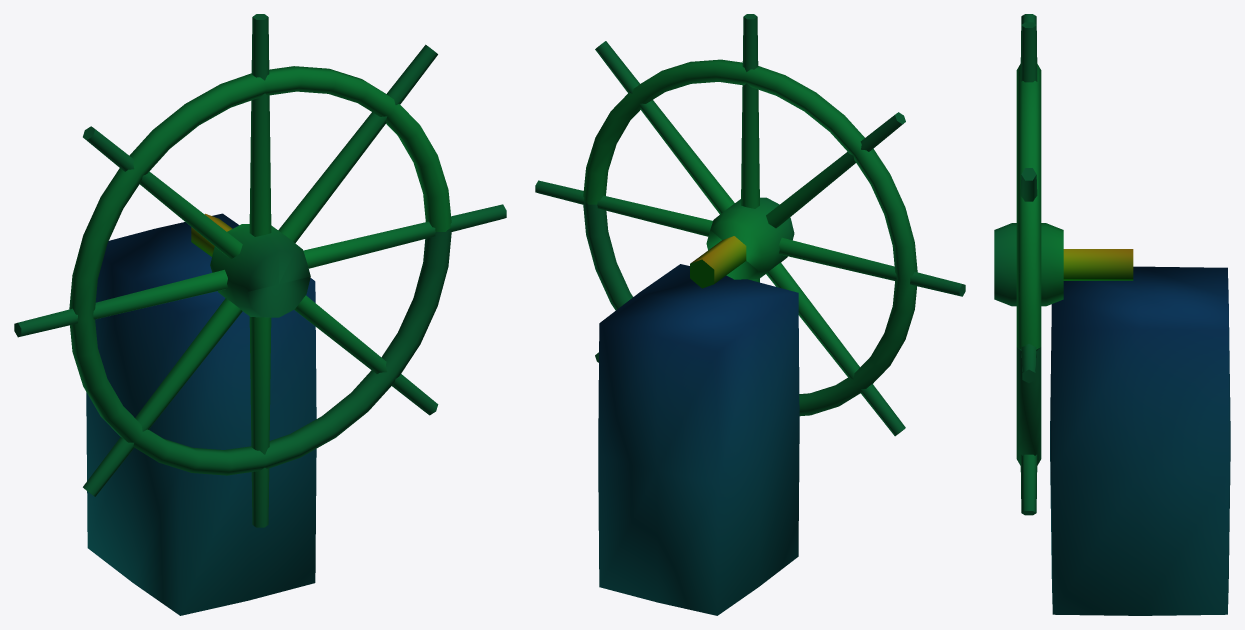
The model's file is terrace_wheel.glb.
The picture shows the model from 3 angles, left to right: view 1: azimuth 30°, elevation 25°; view 2: azimuth 150°, elevation 25°; view 3: azimuth 270°, elevation 25°; orthographic projection. The views are drawn at different scales.
Parts seen in each view (by area): view 1: terrace_wheel; view 2: terrace_wheel; view 3: terrace_wheel.
Part boxes in pixels (x1,y1,x2,y2): terrace_wheel: (14,14,506,615); terrace_wheel: (535,14,965,615); terrace_wheel: (994,14,1230,615).
Size of what is drawn, in the model's own units: 1.52 by 1.78 by 0.68.
